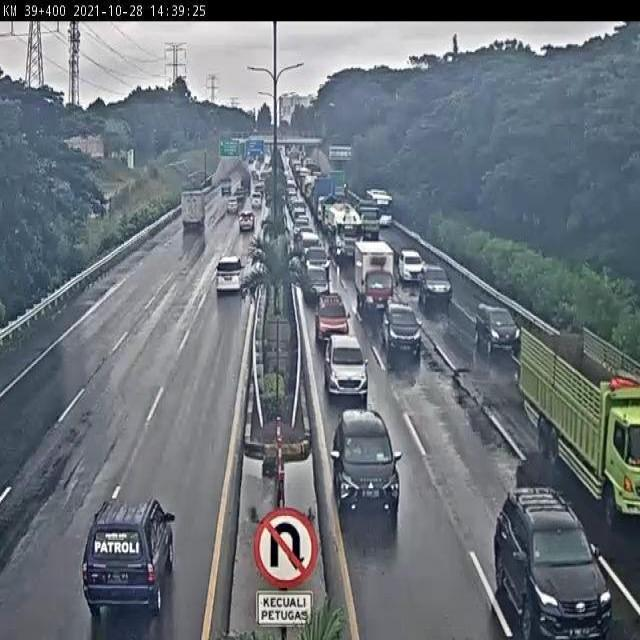car: (486, 485, 614, 640), (74, 478, 178, 640), (330, 410, 403, 526), (319, 331, 370, 396), (472, 299, 519, 360), (379, 304, 424, 364), (308, 284, 352, 339), (418, 260, 455, 312), (211, 248, 246, 299), (395, 243, 422, 281), (232, 210, 258, 242), (247, 190, 265, 214), (222, 195, 242, 213)
truck: (497, 316, 640, 509), (343, 234, 397, 314), (324, 197, 364, 267), (177, 183, 213, 239)
